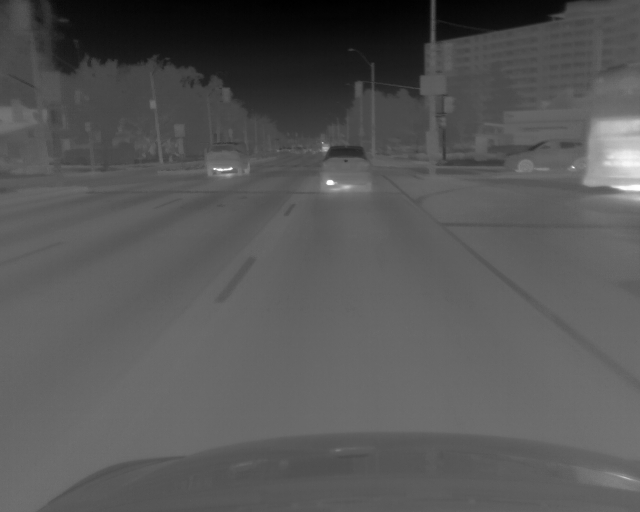car: (581, 63, 640, 195), (502, 138, 584, 174), (319, 142, 375, 192), (203, 141, 252, 179)
